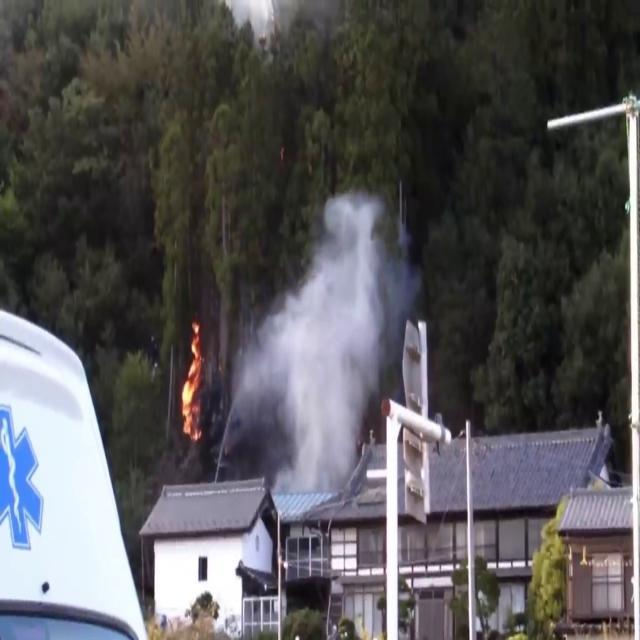Fire: (177, 314, 208, 442)
Smoke: (228, 179, 412, 505)
